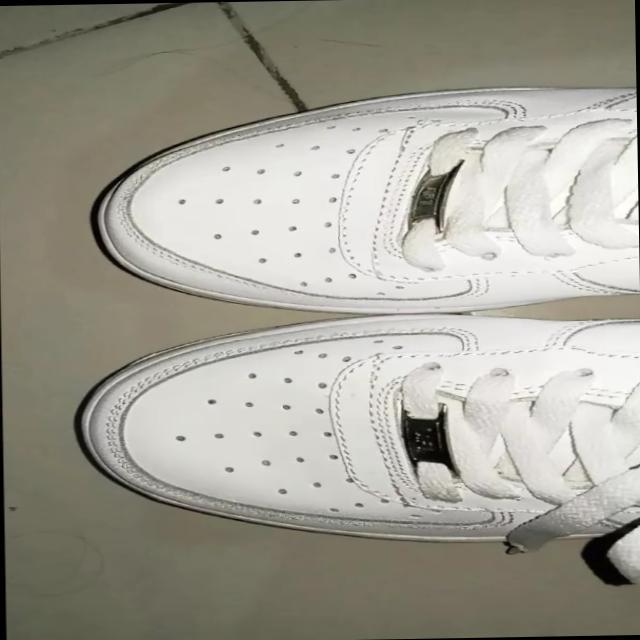nike fake air force: (70, 309, 640, 553), (89, 82, 637, 320)
